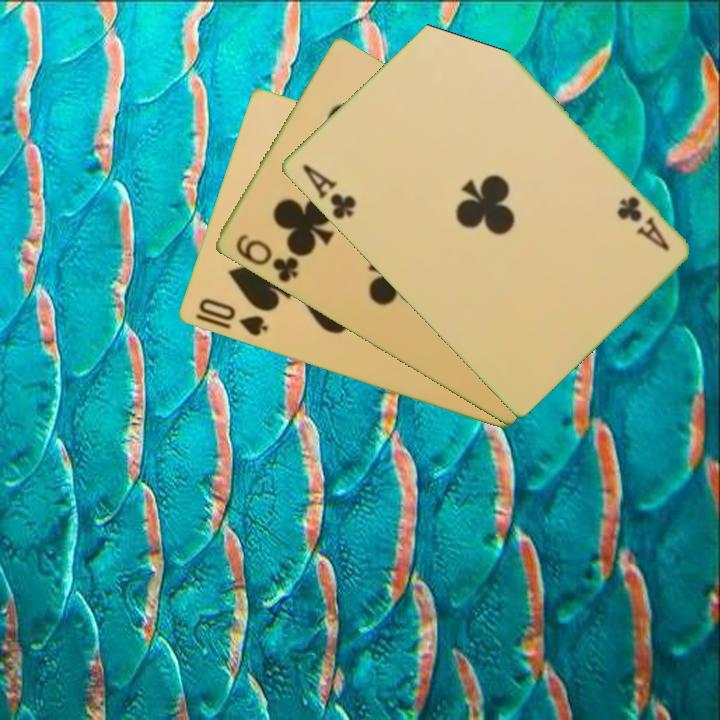10s: (195, 295, 270, 340)
6c: (231, 230, 301, 286)
Ac: (298, 160, 359, 223), (612, 192, 672, 254)
